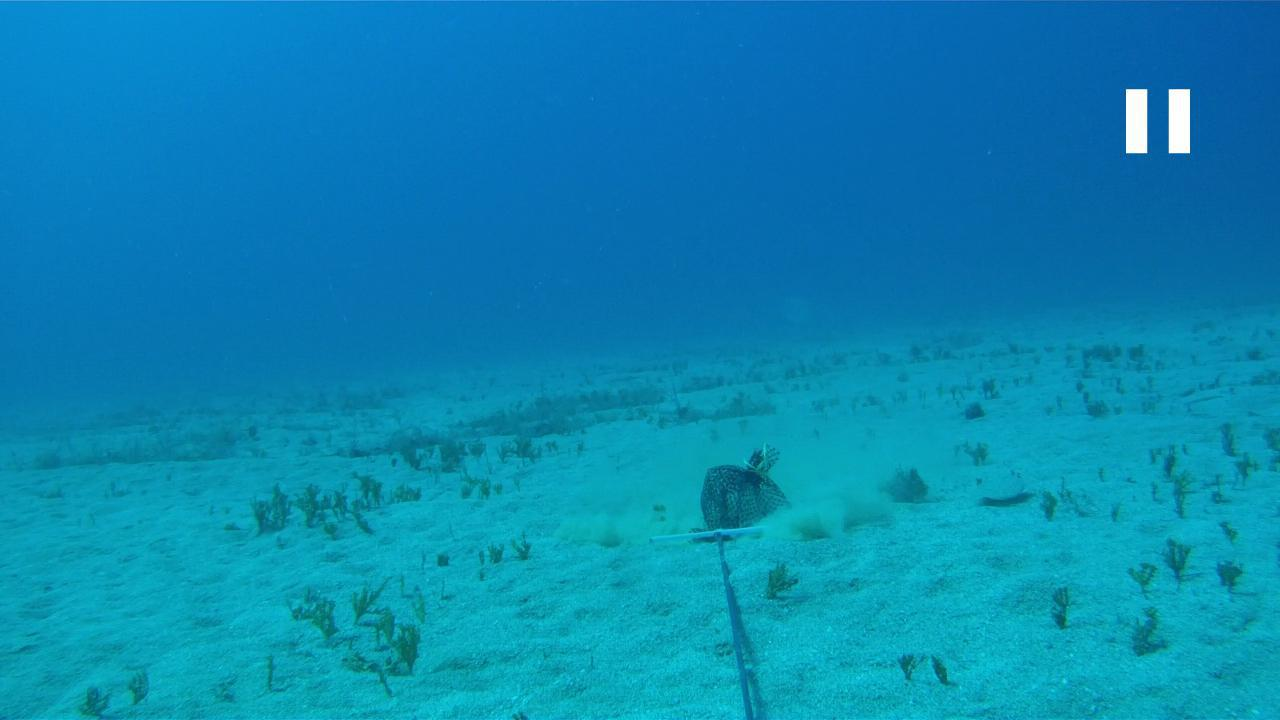bothus: (967, 465, 1029, 508)
